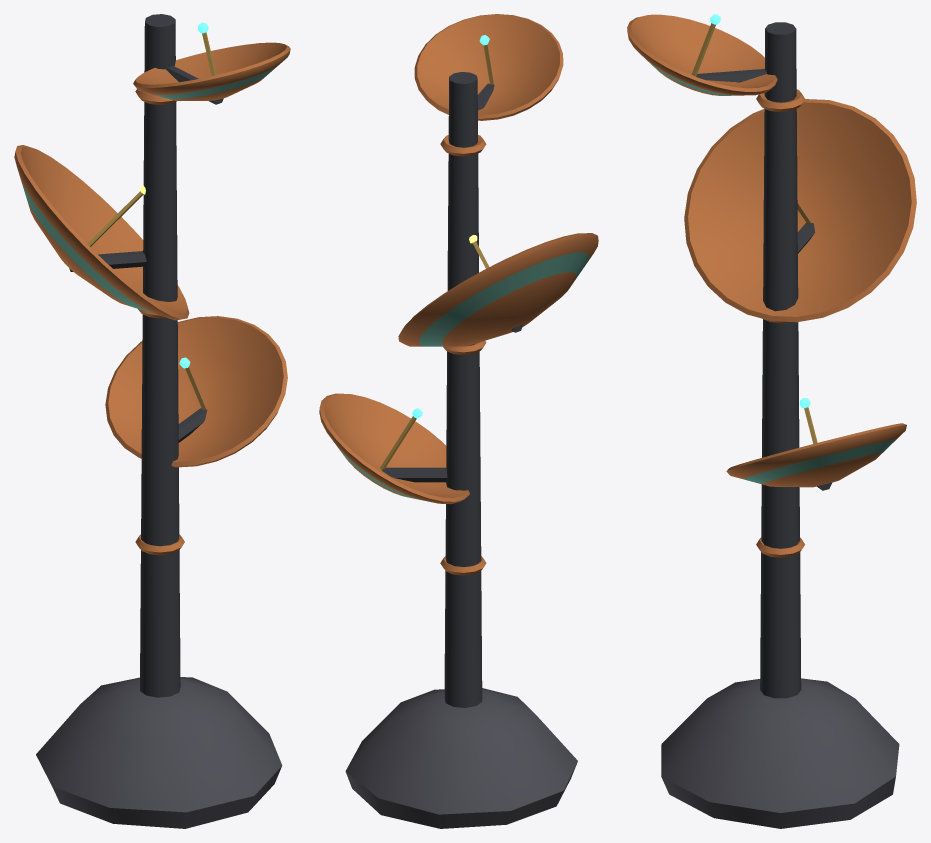
Rendered from deco_signal_dish_array.fbx.
3 views of the same model, side by side, from view 1: azimuth 30°, elevation 25°; view 2: azimuth 150°, elevation 25°; view 3: azimuth 270°, elevation 25° (orthographic). The views are drawn at different scales.
Parts seen in each view (by area): view 1: SignalDish_Array_Mast, SignalDish_Array_Dish1, SignalDish_Array_Dish2, SignalDish_Array_Dish3; view 2: SignalDish_Array_Mast, SignalDish_Array_Dish2, SignalDish_Array_Dish3, SignalDish_Array_Dish1; view 3: SignalDish_Array_Mast, SignalDish_Array_Dish2, SignalDish_Array_Dish3, SignalDish_Array_Dish1.
Part boxes in pixels (bbox=[...]): SignalDish_Array_Mast: bbox=[36, 14, 282, 828]; SignalDish_Array_Dish1: bbox=[105, 316, 287, 467]; SignalDish_Array_Dish2: bbox=[14, 145, 189, 320]; SignalDish_Array_Dish3: bbox=[133, 22, 290, 104]; SignalDish_Array_Mast: bbox=[345, 72, 577, 828]; SignalDish_Array_Dish2: bbox=[398, 233, 598, 346]; SignalDish_Array_Dish3: bbox=[414, 14, 563, 120]; SignalDish_Array_Dish1: bbox=[319, 393, 469, 504]; SignalDish_Array_Mast: bbox=[661, 22, 899, 828]; SignalDish_Array_Dish2: bbox=[684, 99, 916, 322]; SignalDish_Array_Dish3: bbox=[627, 14, 777, 95]; SignalDish_Array_Dish1: bbox=[726, 398, 906, 490].
Size of the model in its own units: 113 by 328 by 112.
